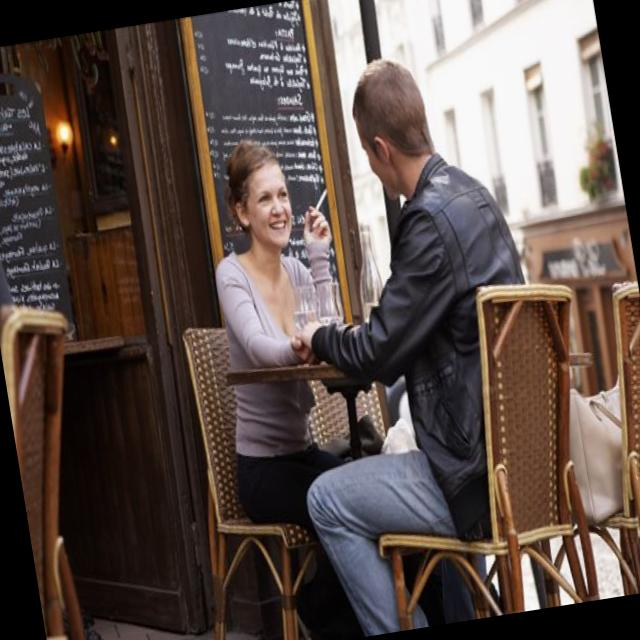cigarette: (306, 182, 334, 218)
